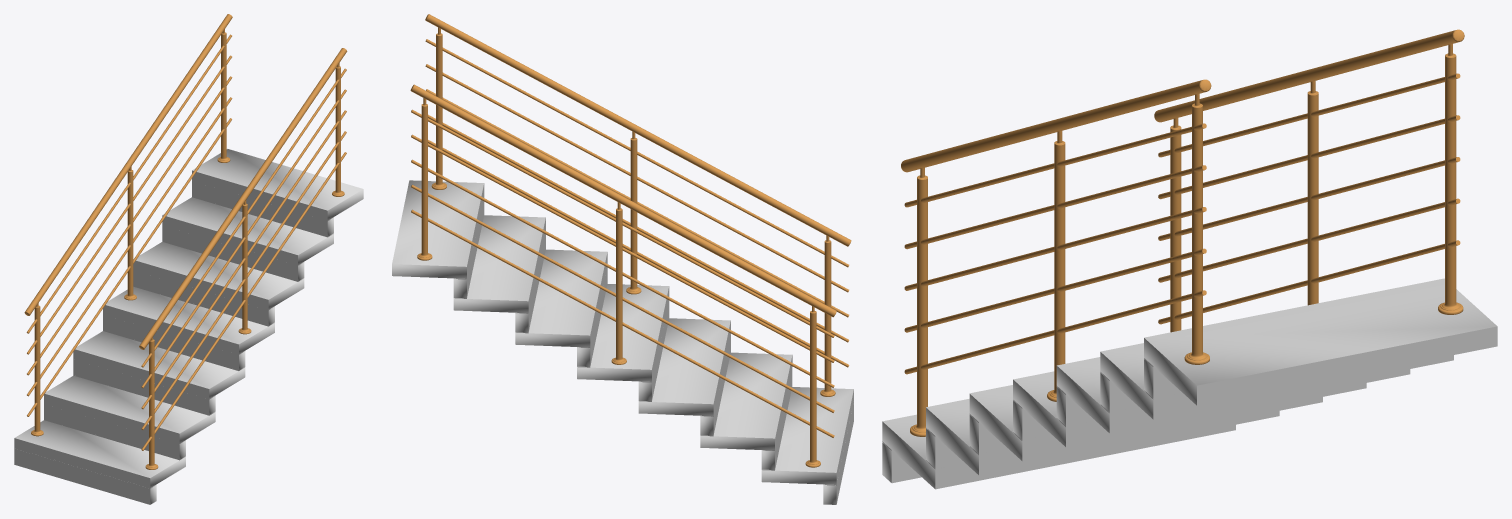
File: uploads_files_2187460_stairs.FBX
3 views of the same model, side by side, from view 1: azimuth 30°, elevation 25°; view 2: azimuth 150°, elevation 25°; view 3: azimuth 270°, elevation 25° (orthographic). The views are drawn at different scales.
Visible parts, largest first — view 1: stairs, Line001; view 2: stairs, Line001; view 3: stairs, Line001.
Boxes of the visible parts, left/top/right/bottom form: stairs: left=14, top=149, right=363, bottom=504; Line001: left=24, top=14, right=347, bottom=469; stairs: left=392, top=180, right=853, bottom=504; Line001: left=410, top=14, right=851, bottom=467; stairs: left=882, top=278, right=1497, bottom=489; Line001: left=901, top=29, right=1464, bottom=436.
Size of the model in its own units: 56143 by 50374 by 42393.
